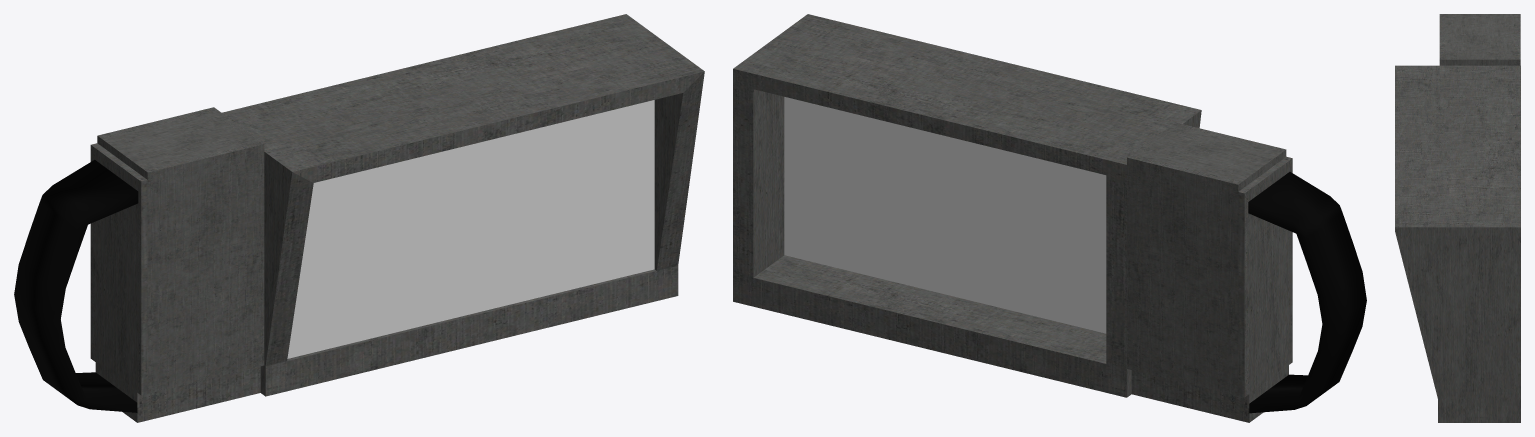
Rendered from looking glass.fbx.
The picture shows the model from 3 angles, left to right: view 1: azimuth 30°, elevation 25°; view 2: azimuth 150°, elevation 25°; view 3: azimuth 270°, elevation 25°; orthographic projection. The views are drawn at different scales.
Visible parts, largest first — view 1: Cube, Cube.001; view 2: Cube, Cube.001; view 3: Cube.
Boxes of the visible parts, x1=… form: Cube: x1=14, y1=14, x2=704, y2=422; Cube.001: x1=287, y1=100, x2=654, y2=358; Cube: x1=733, y1=14, x2=1366, y2=422; Cube.001: x1=784, y1=97, x2=1106, y2=333; Cube: x1=1395, y1=14, x2=1520, y2=422.
Size of the model in its own units: 891 by 346 by 195.
